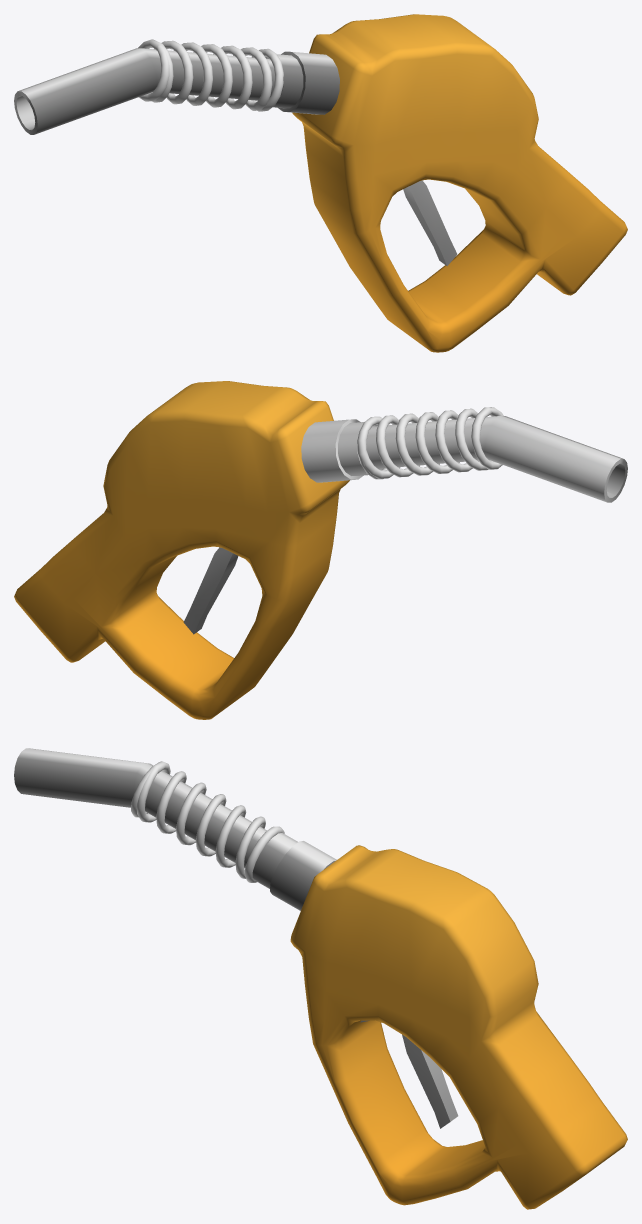
File: PumpHead.fbx
The picture shows the model from 3 angles, top to bottom: view 1: azimuth 30°, elevation 25°; view 2: azimuth 150°, elevation 25°; view 3: azimuth 330°, elevation 25°; orthographic projection.
Parts seen in each view (by area): view 1: pumpHead; view 2: pumpHead; view 3: pumpHead.
Part boxes in pixels (box(x1,y1,x2,y2)): pumpHead: box(14, 14, 627, 352); pumpHead: box(14, 381, 627, 719); pumpHead: box(14, 748, 627, 1209).
Bounding box in the file's own units: 22.15 × 13.06 × 3.12.
